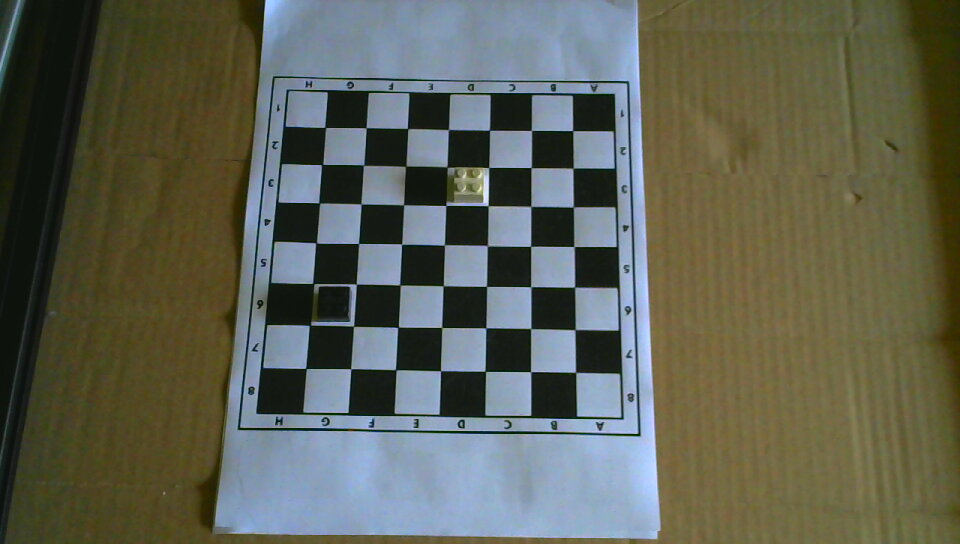bp: (316, 284, 352, 323)
wp: (451, 166, 485, 205)
